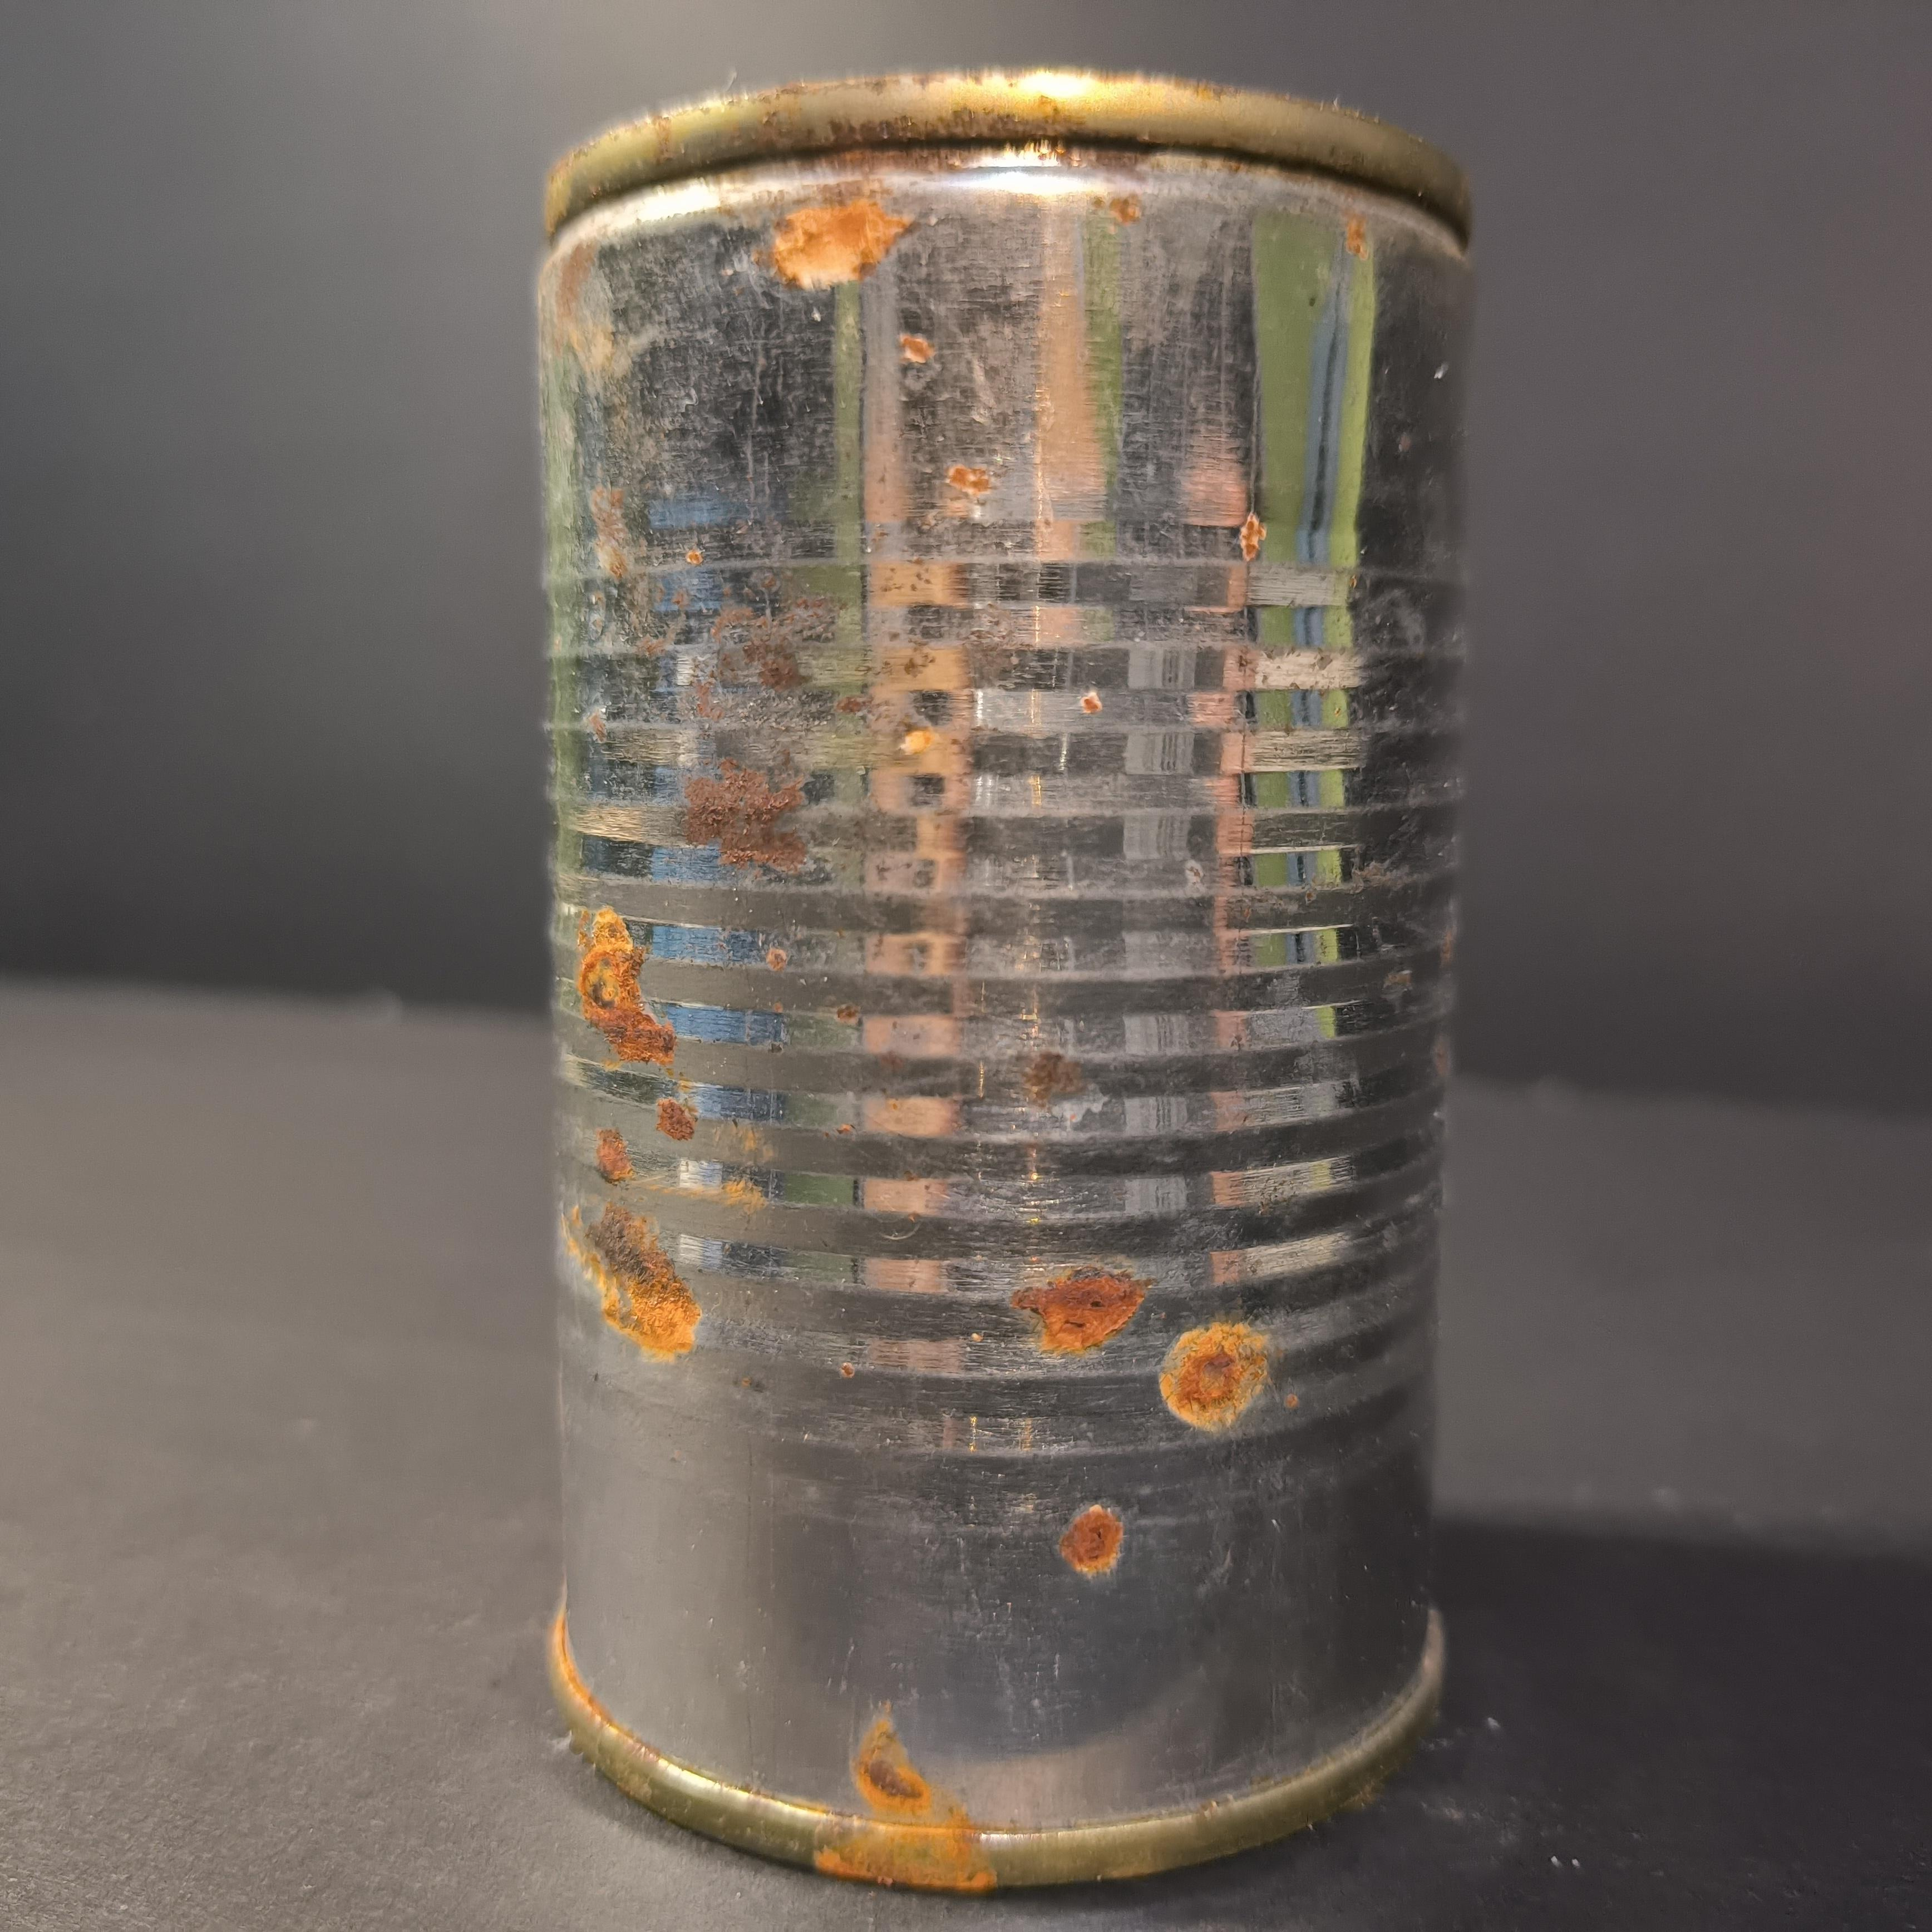Rusted: (506, 58, 1483, 1932)
